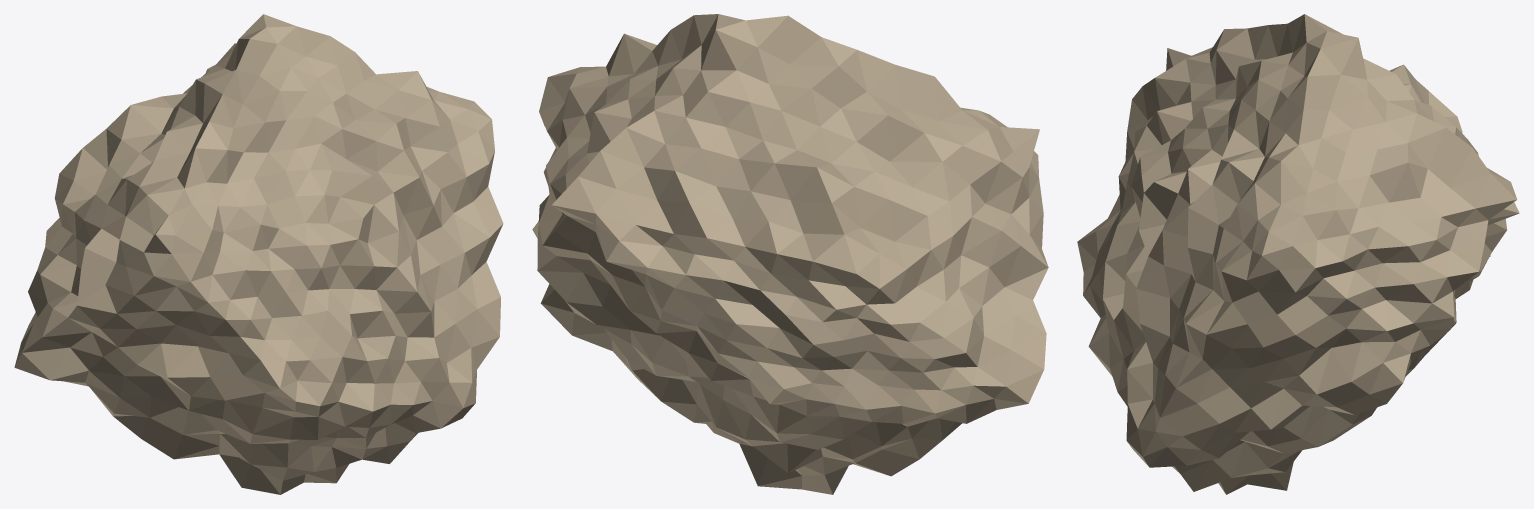
File: SM_Debris_B.fbx
The picture shows the model from 3 angles, left to right: view 1: azimuth 30°, elevation 25°; view 2: azimuth 150°, elevation 25°; view 3: azimuth 270°, elevation 25°; orthographic projection. The views are drawn at different scales.
Parts seen in each view (by area): view 1: SM_Debris_B; view 2: SM_Debris_B; view 3: SM_Debris_B.
Boxes of the visible parts, x1,y1,x2,y2 form: SM_Debris_B: (14, 14, 503, 494); SM_Debris_B: (532, 14, 1048, 494); SM_Debris_B: (1077, 14, 1519, 494).
Bounding box in the file's own units: 0.9309 × 0.8679 × 0.7487.
